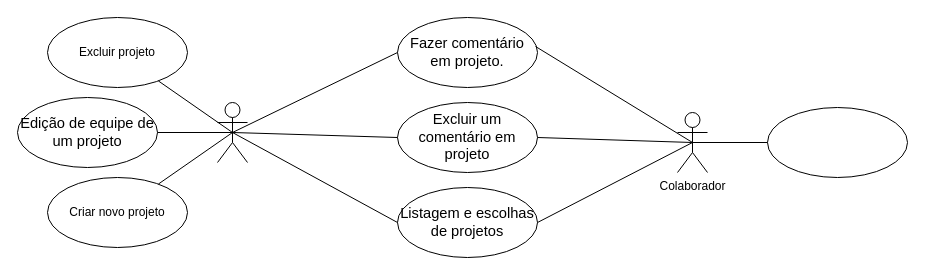
Image size: 925x275. Some labels were removed from this diagram. The shapes that lost their labels are listed below. From the top down, each one's box as (x1, y1, x2, y2) in pixels, then its label:
(216, 102, 248, 162): Coordenador
(766, 106, 908, 178): Registro de um novo colaborador
